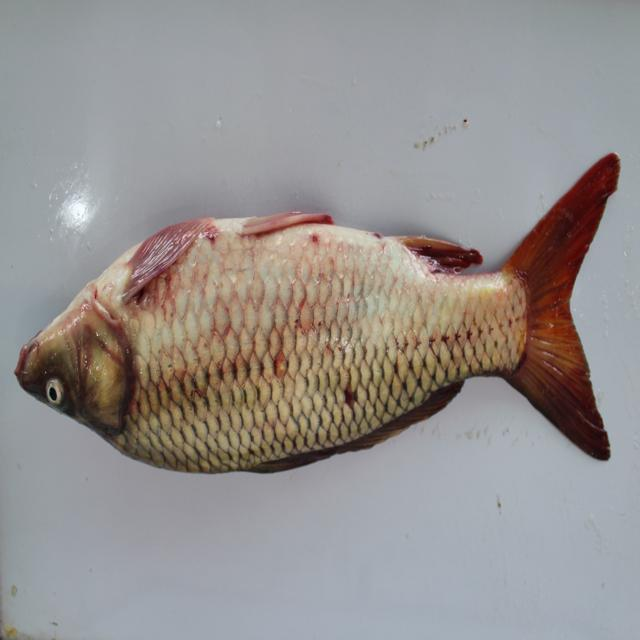Grass Carp: (12, 150, 621, 483)
